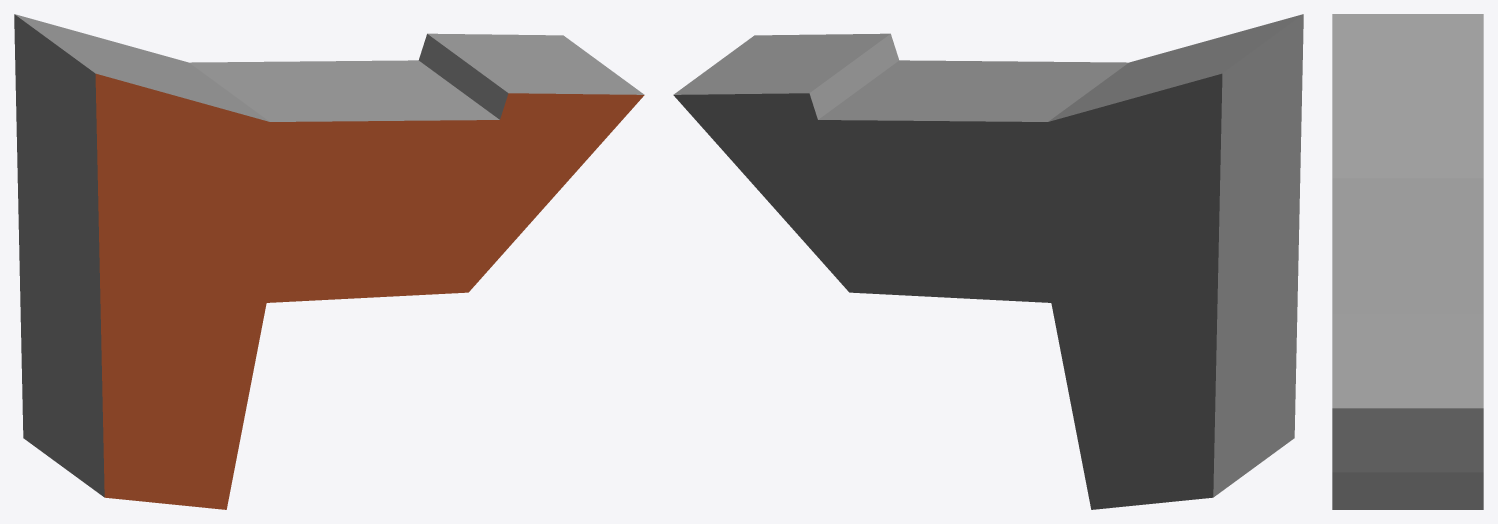
File: construction_6587_assumed_A_Casa_h6m.obj
3 views of the same model, side by side, from view 1: azimuth 30°, elevation 25°; view 2: azimuth 150°, elevation 25°; view 3: azimuth 270°, elevation 25° (orthographic). The views are drawn at different scales.
Parts seen in each view (by area): view 1: construction_6587_assumed_A_Casa; view 2: construction_6587_assumed_A_Casa; view 3: construction_6587_assumed_A_Casa.
Part boxes in pixels (box(x1,y1,x2,y2)): construction_6587_assumed_A_Casa: box(14, 14, 644, 509); construction_6587_assumed_A_Casa: box(673, 14, 1303, 509); construction_6587_assumed_A_Casa: box(1332, 14, 1483, 509).
Bounding box in the file's own units: 23.39 × 19.06 × 6.
